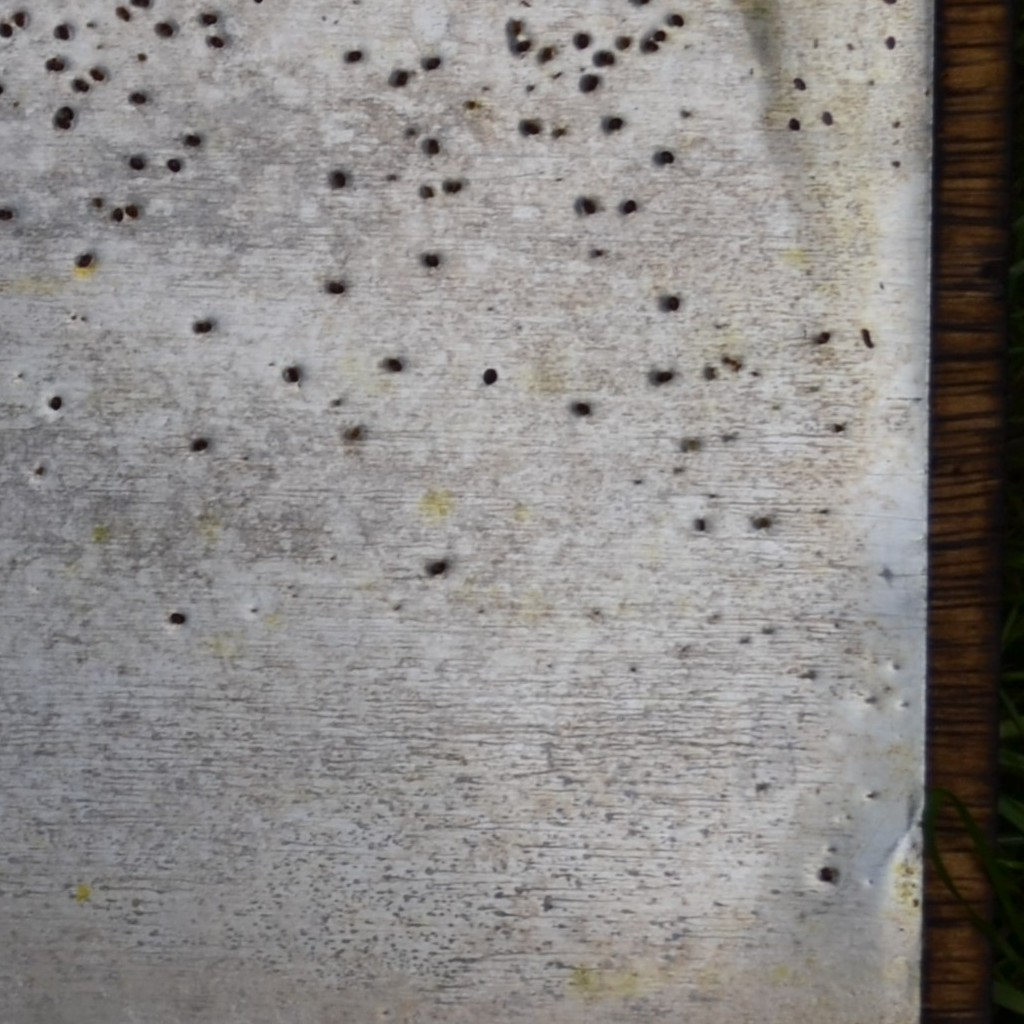varroa: (589, 42, 617, 71), (576, 69, 603, 96), (649, 146, 677, 169), (327, 165, 348, 192), (189, 431, 210, 458), (602, 112, 625, 136), (425, 556, 448, 579), (379, 353, 404, 374), (126, 85, 148, 107), (574, 196, 597, 217), (153, 18, 174, 41), (43, 55, 66, 76), (571, 29, 591, 53), (441, 177, 465, 197), (283, 362, 302, 387), (652, 367, 675, 387), (125, 153, 148, 173), (209, 29, 227, 54), (191, 316, 212, 337), (182, 129, 203, 150), (614, 31, 634, 53), (390, 67, 412, 87), (47, 391, 67, 413), (165, 154, 184, 177), (50, 113, 73, 132), (810, 324, 830, 345), (659, 294, 680, 314), (513, 34, 533, 55), (75, 250, 94, 272), (621, 195, 639, 218), (324, 277, 348, 294), (482, 364, 498, 389), (785, 112, 804, 133), (520, 118, 541, 137), (422, 53, 441, 74), (421, 249, 442, 268), (52, 21, 73, 40), (422, 135, 442, 154), (817, 104, 834, 126), (667, 8, 686, 27), (71, 76, 90, 95), (346, 46, 364, 66), (790, 71, 807, 92), (570, 400, 591, 417), (123, 200, 140, 221), (89, 63, 105, 85), (114, 3, 129, 26), (11, 5, 26, 28), (0, 18, 14, 41), (109, 206, 126, 224), (641, 37, 660, 53), (167, 609, 186, 625), (653, 25, 669, 43), (202, 11, 220, 27), (0, 205, 12, 227)
